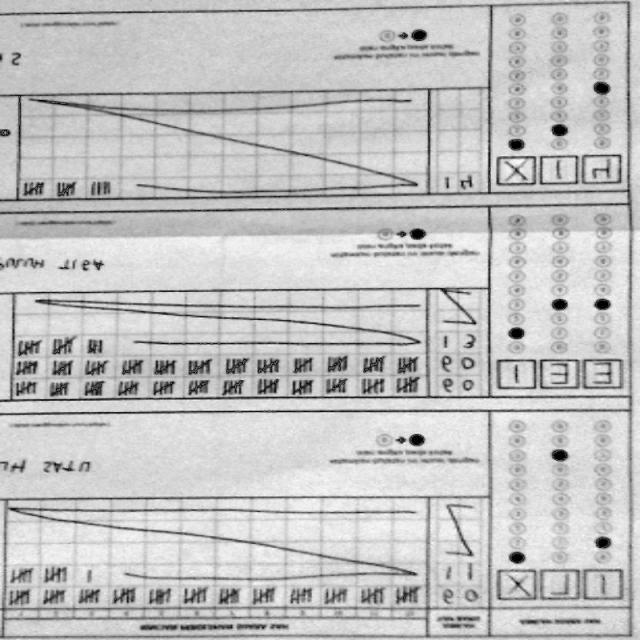Suara: (487, 148, 630, 190), (492, 565, 626, 606), (493, 358, 621, 394)
